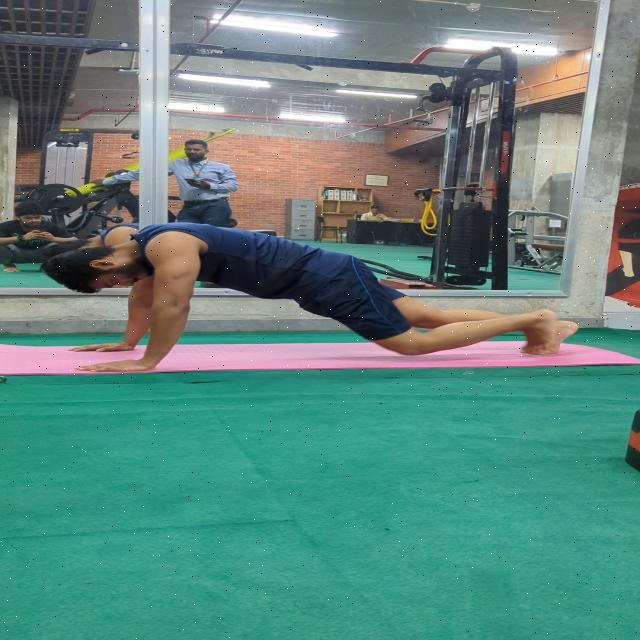Normal_MountainClimbers: (51, 212, 608, 371)
